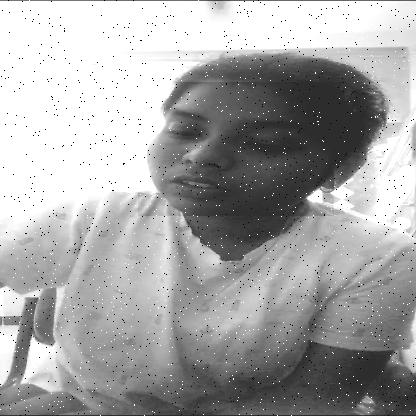Distracted: (138, 82, 334, 216)
